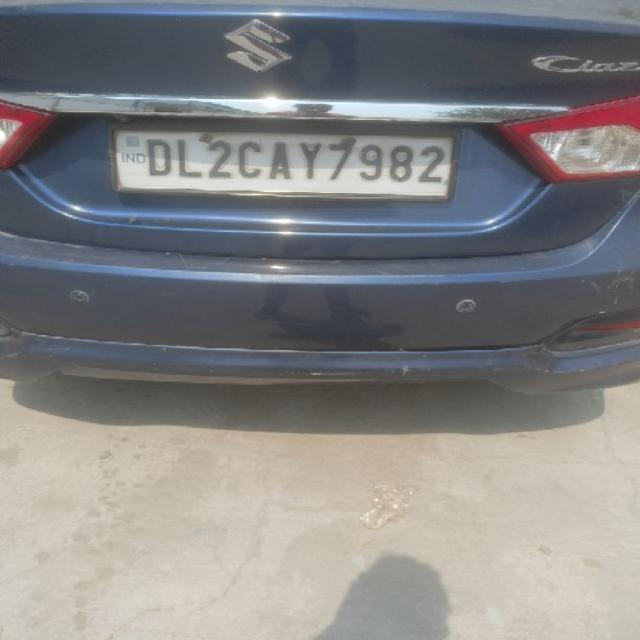license_plate: (107, 120, 460, 202)
